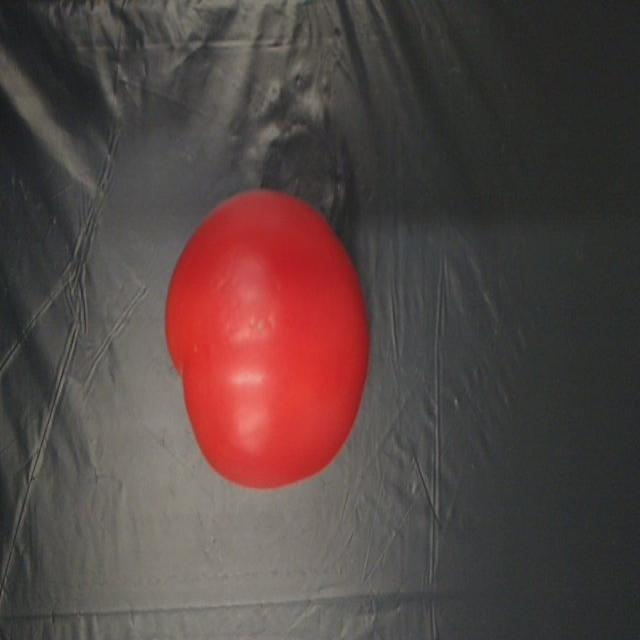kirmizi: (169, 162, 377, 495)
